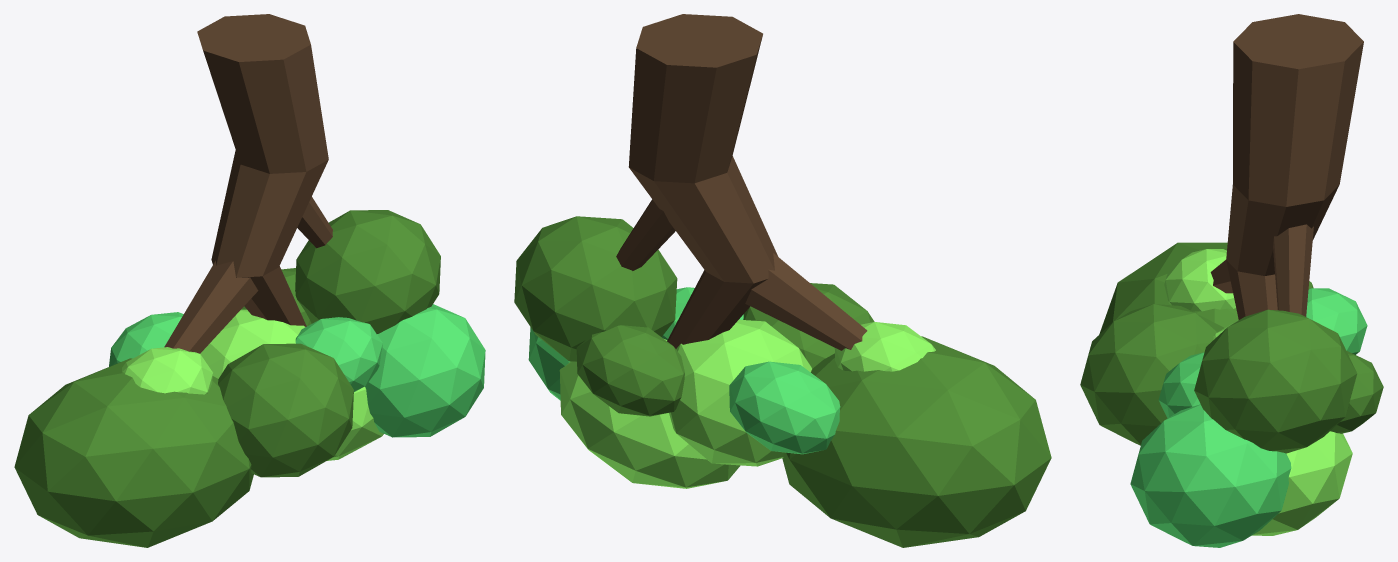
Rendered from tree.glb.
3 views of the same model, side by side, from view 1: azimuth 30°, elevation 25°; view 2: azimuth 150°, elevation 25°; view 3: azimuth 270°, elevation 25° (orthographic). The views are drawn at different scales.
Parts seen in each view (by area): view 1: Icosphere, Cylinder.002, Icosphere.004, Icosphere.003, Icosphere.008, Icosphere.007, Icosphere.009, Icosphere.002, Icosphere.005, Icosphere.001; view 2: Cylinder.002, Icosphere, Icosphere.003, Icosphere.002, Icosphere.001, Icosphere.005, Icosphere.006, Icosphere.009, Icosphere.004, Icosphere.008; view 3: Cylinder.002, Icosphere.003, Icosphere.008, Icosphere.004, Icosphere.001, Icosphere, Icosphere.009, Icosphere.005, Icosphere.006, Icosphere.007.
Boxes of the visible parts, bbox=[...] form: Icosphere: bbox=[14, 358, 253, 547]; Cylinder.002: bbox=[164, 14, 332, 353]; Icosphere.004: bbox=[218, 343, 353, 477]; Icosphere.003: bbox=[295, 210, 440, 333]; Icosphere.008: bbox=[365, 304, 485, 437]; Icosphere.007: bbox=[295, 317, 382, 391]; Icosphere.009: bbox=[122, 347, 212, 394]; Icosphere.002: bbox=[200, 309, 305, 378]; Icosphere.005: bbox=[109, 312, 183, 366]; Icosphere.001: bbox=[327, 386, 383, 460]; Cylinder.002: bbox=[616, 14, 867, 350]; Icosphere: bbox=[782, 336, 1051, 547]; Icosphere.003: bbox=[514, 216, 677, 361]; Icosphere.002: bbox=[669, 319, 811, 466]; Icosphere.001: bbox=[559, 339, 740, 488]; Icosphere.005: bbox=[729, 361, 840, 454]; Icosphere.006: bbox=[576, 325, 684, 416]; Icosphere.009: bbox=[834, 322, 935, 371]; Icosphere.004: bbox=[743, 283, 874, 368]; Icosphere.008: bbox=[528, 327, 569, 400]; Cylinder.002: bbox=[1210, 14, 1363, 319]; Icosphere.003: bbox=[1194, 309, 1357, 453]; Icosphere.008: bbox=[1130, 404, 1291, 547]; Icosphere.004: bbox=[1080, 304, 1223, 445]; Icosphere.001: bbox=[1252, 431, 1352, 535]; Icosphere: bbox=[1099, 242, 1313, 334]; Icosphere.009: bbox=[1164, 249, 1235, 311]; Icosphere.005: bbox=[1306, 288, 1367, 354]; Icosphere.006: bbox=[1330, 350, 1383, 433]; Icosphere.007: bbox=[1158, 352, 1204, 418].
Bounding box in the file's own units: 10.6 × 9.92 × 5.68.
